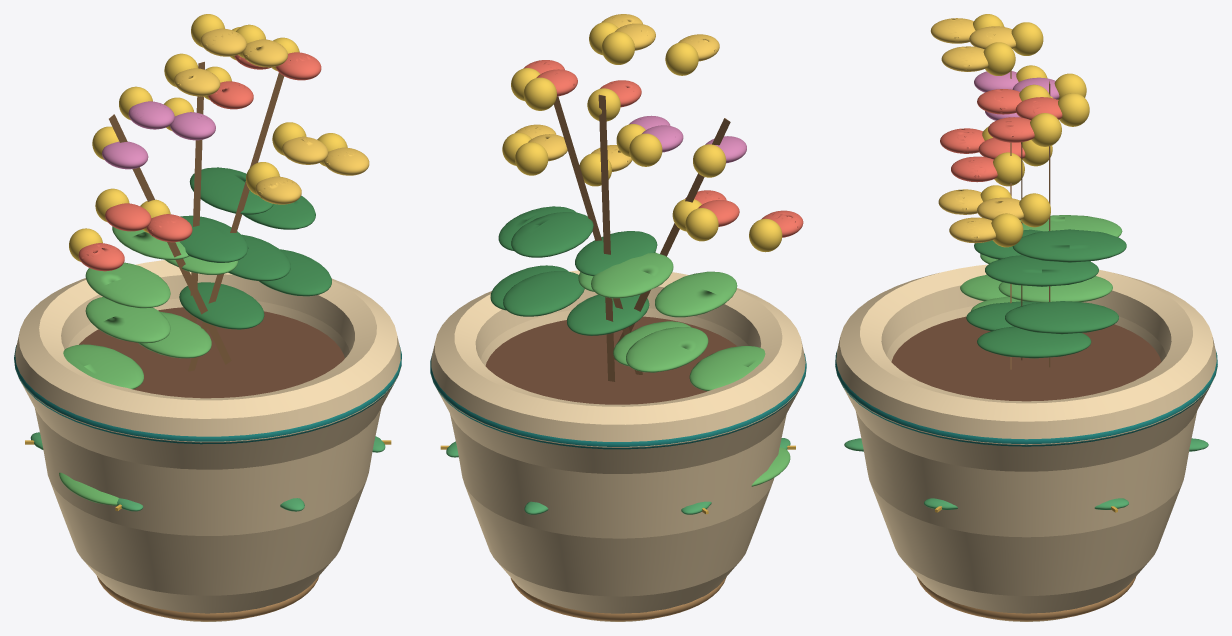
Rendered from gblb_petal_planter.glb.
The picture shows the model from 3 angles, left to right: view 1: azimuth 30°, elevation 25°; view 2: azimuth 150°, elevation 25°; view 3: azimuth 270°, elevation 25°; orthographic projection. The views are drawn at different scales.
Bounding box in the file's own units: 0.2478 × 0.401 × 0.2479.
